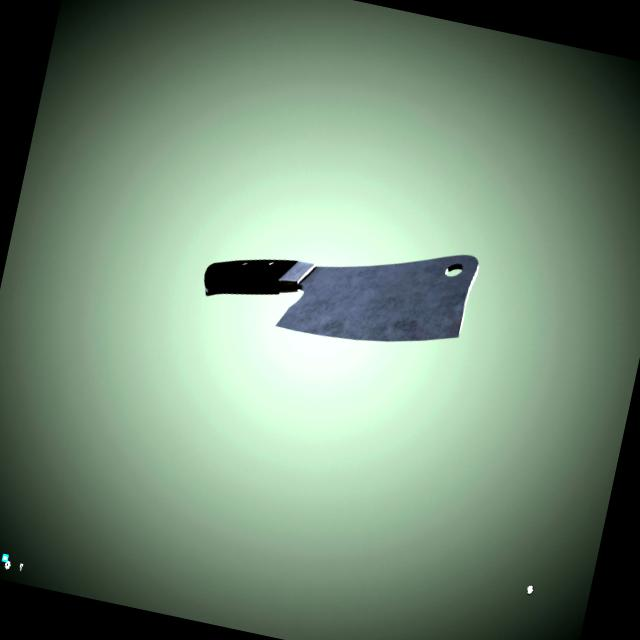cleaver: (196, 198, 484, 370)
